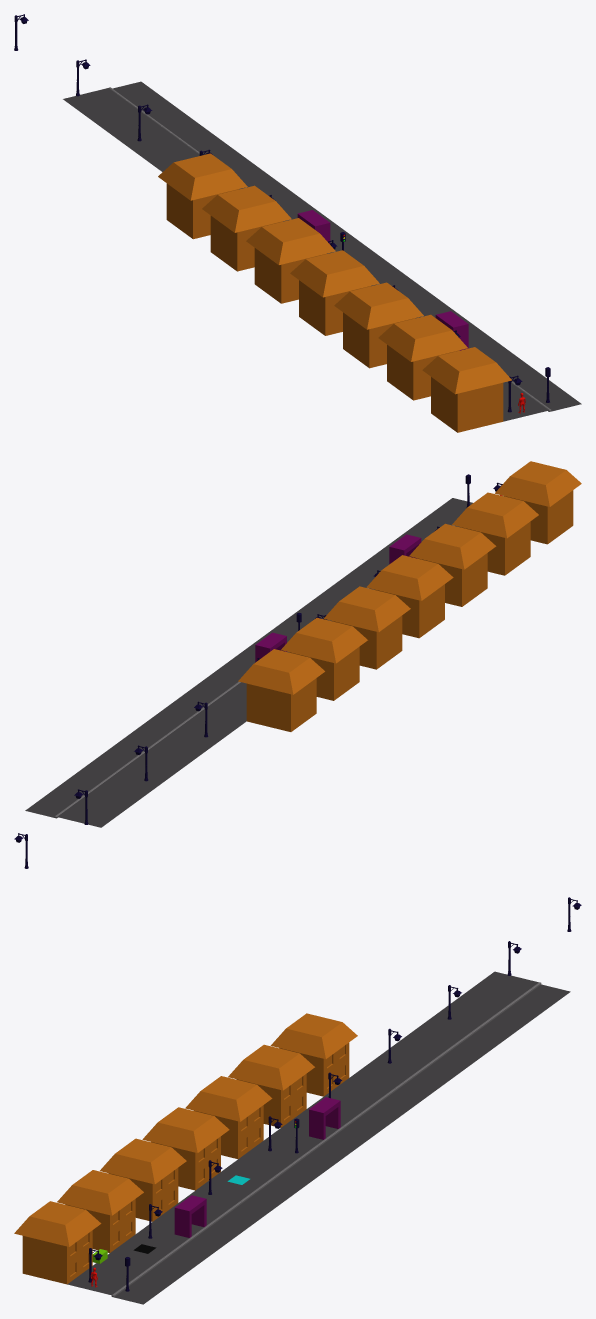
File: environmentRIFTtriangles.glb
3 views of the same model, one above another, from view 1: azimuth 30°, elevation 25°; view 2: azimuth 150°, elevation 25°; view 3: azimuth 330°, elevation 25° (orthographic). The views are drawn at different scales.
Visible parts, largest first — view 1: Houses, CarLane, WalkLane, lampPost, busStop1, busStop2; view 2: Houses, CarLane, WalkLane, lampPost, busStop1, busStop2; view 3: Houses, WalkLane, CarLane, curbs, lampPost, busStop1, busStop2.
Boxes of the visible parts, x1,y1,x2,y2 form: Houses: [158, 153, 511, 432]; CarLane: [112, 81, 581, 411]; WalkLane: [63, 88, 548, 421]; lampPost: [14, 14, 522, 412]; busStop1: [435, 311, 468, 350]; busStop2: [297, 210, 330, 243]; Houses: [238, 461, 581, 731]; CarLane: [25, 498, 472, 817]; WalkLane: [57, 525, 459, 827]; lampPost: [14, 482, 502, 868]; busStop1: [389, 534, 421, 564]; busStop2: [255, 632, 286, 661]; Houses: [14, 1013, 357, 1284]; WalkLane: [67, 971, 538, 1295]; CarLane: [114, 984, 570, 1304]; curbs: [111, 982, 541, 1297]; lampPost: [88, 897, 581, 1282]; busStop1: [174, 1195, 206, 1237]; busStop2: [309, 1097, 340, 1139].
Bounding box in the file's own units: 8.52 × 3.75 × 57.58.
11 materials, 8 textured.
